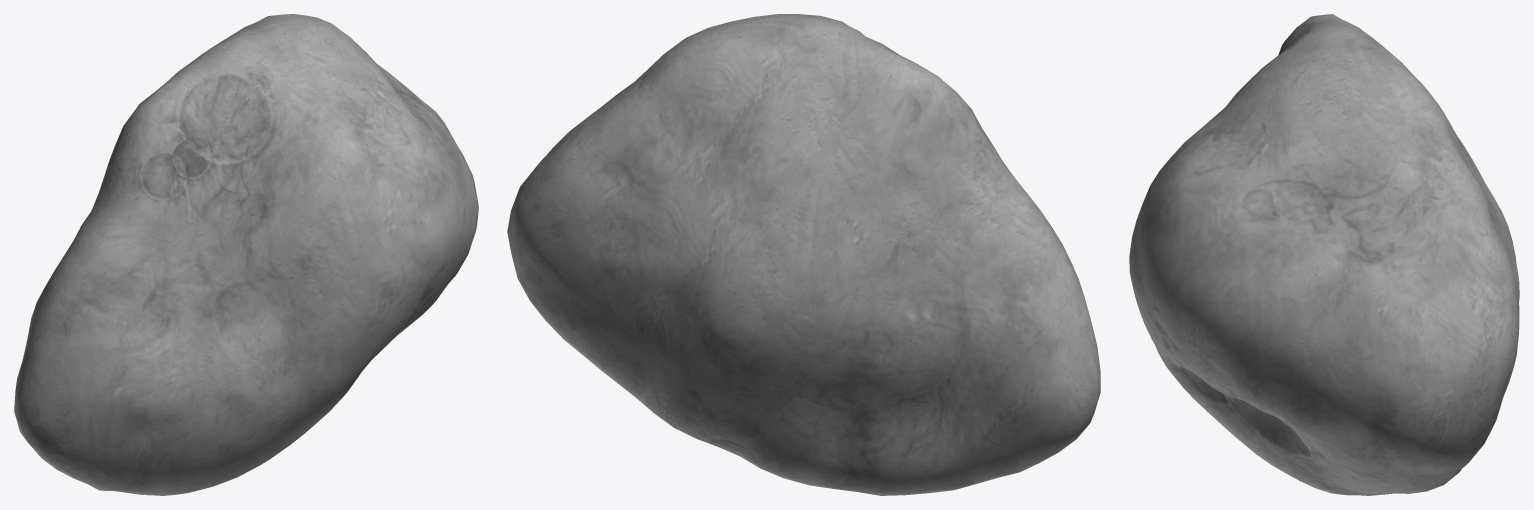
3 renders of one model, left to right at view 1: azimuth 30°, elevation 25°; view 2: azimuth 150°, elevation 25°; view 3: azimuth 270°, elevation 25°, orthographic. The views are drawn at different scales.
Visible parts, largest first — view 1: asteroid_02; view 2: asteroid_02; view 3: asteroid_02.
Part boxes in pixels (x1,y1,x2,y2): asteroid_02: (14, 14, 478, 495); asteroid_02: (507, 14, 1100, 495); asteroid_02: (1129, 14, 1519, 495).
Size of the model in its own units: 2 by 1.68 by 1.27.
Materials: 1 (1 with a texture image).
